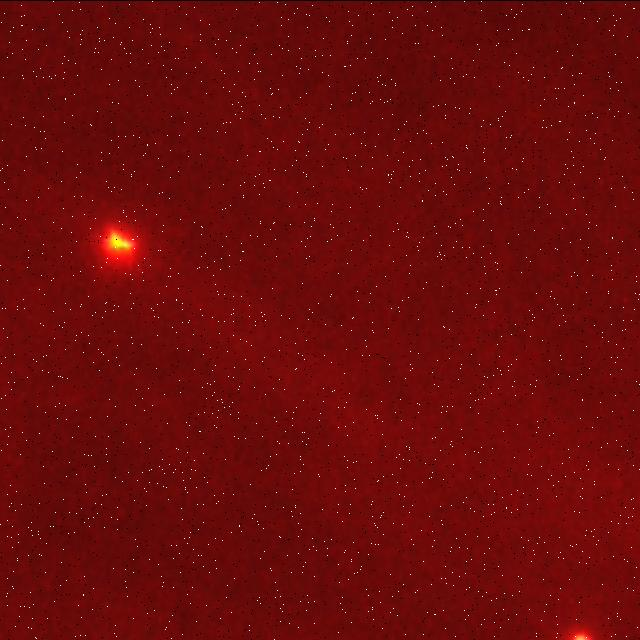Fragment: (108, 228, 136, 254), (568, 632, 590, 640)
